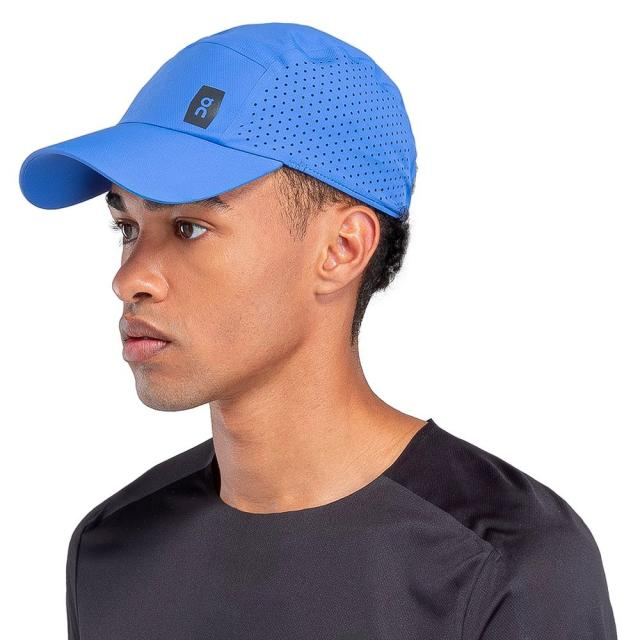Nonhelmet: (17, 20, 419, 221)
